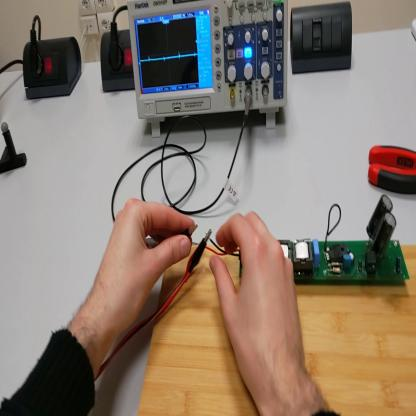hand: (209, 210, 312, 402), (94, 200, 194, 336)
high voltage board: (208, 200, 410, 284)
oscilloscope: (128, 1, 291, 140)
pliers: (369, 145, 415, 195)
socket: (24, 36, 84, 102), (99, 29, 140, 97)
working area: (138, 235, 415, 414)
